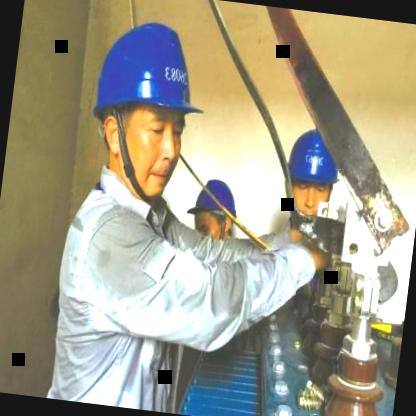helmet: (78, 5, 222, 209), (275, 124, 347, 231), (183, 169, 247, 252)
